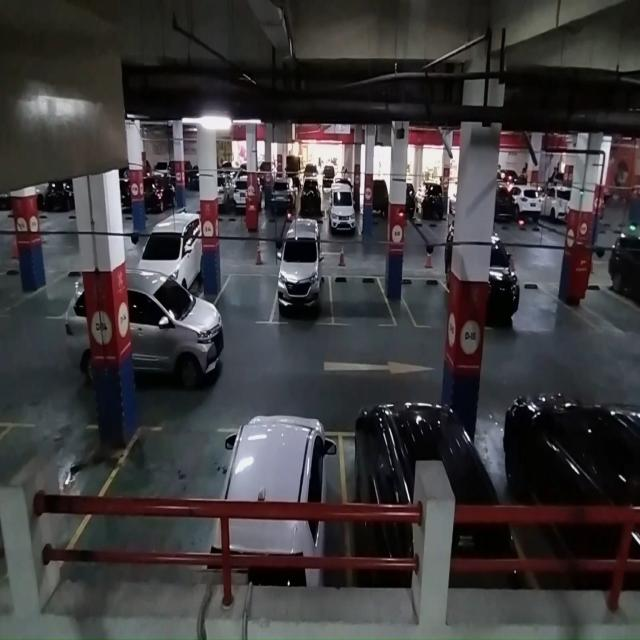empty: (111, 425, 230, 500), (331, 272, 391, 328), (221, 269, 276, 325), (404, 274, 450, 330)
occupied: (223, 425, 345, 506), (274, 262, 330, 328)
